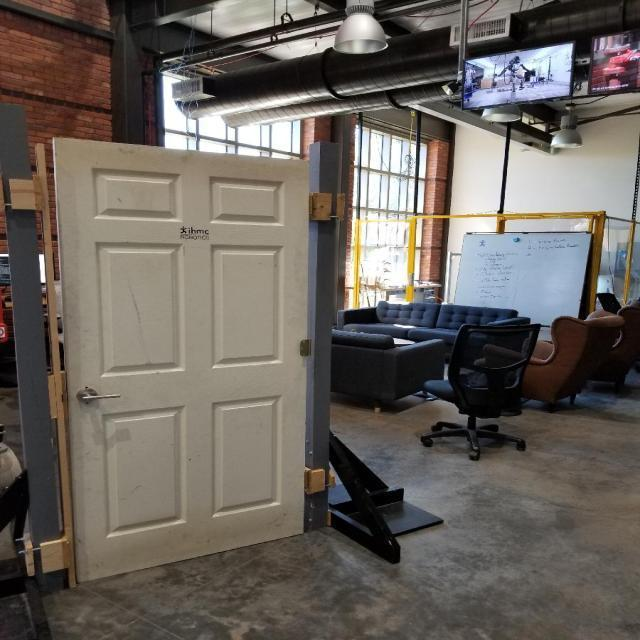door: (47, 135, 313, 586), (77, 387, 121, 413)
